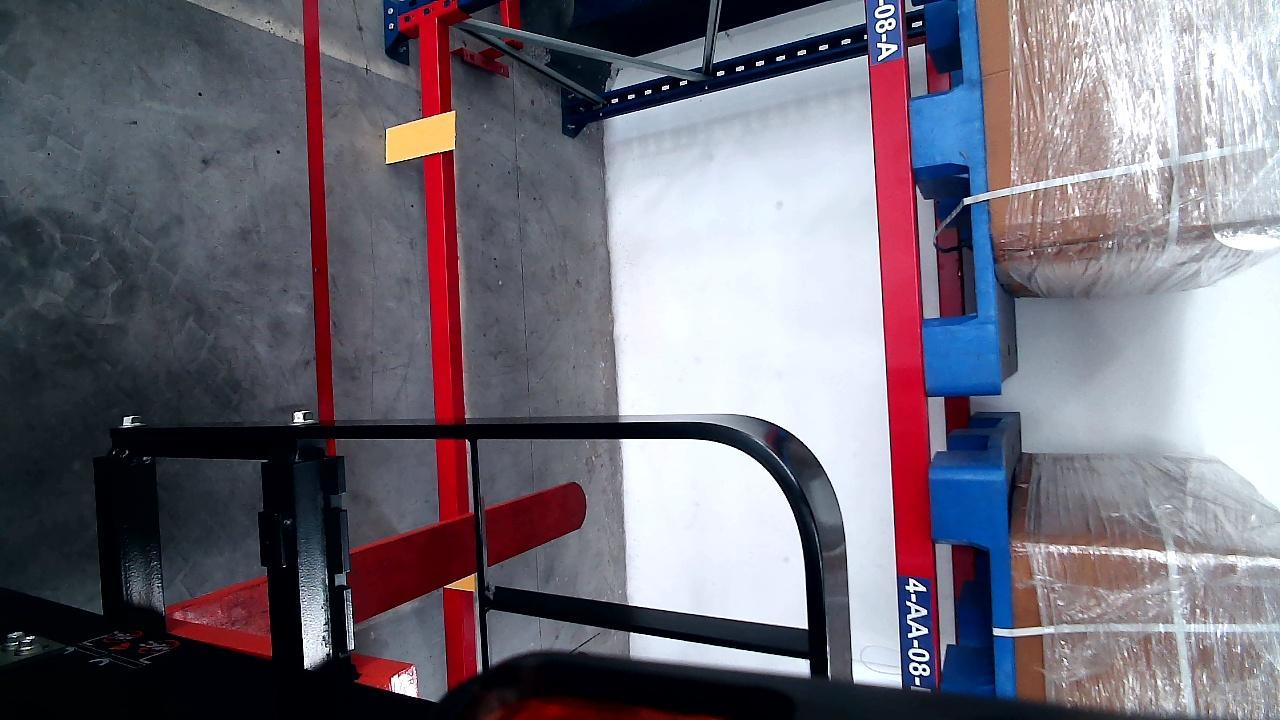red_line: (304, 0, 335, 428)
